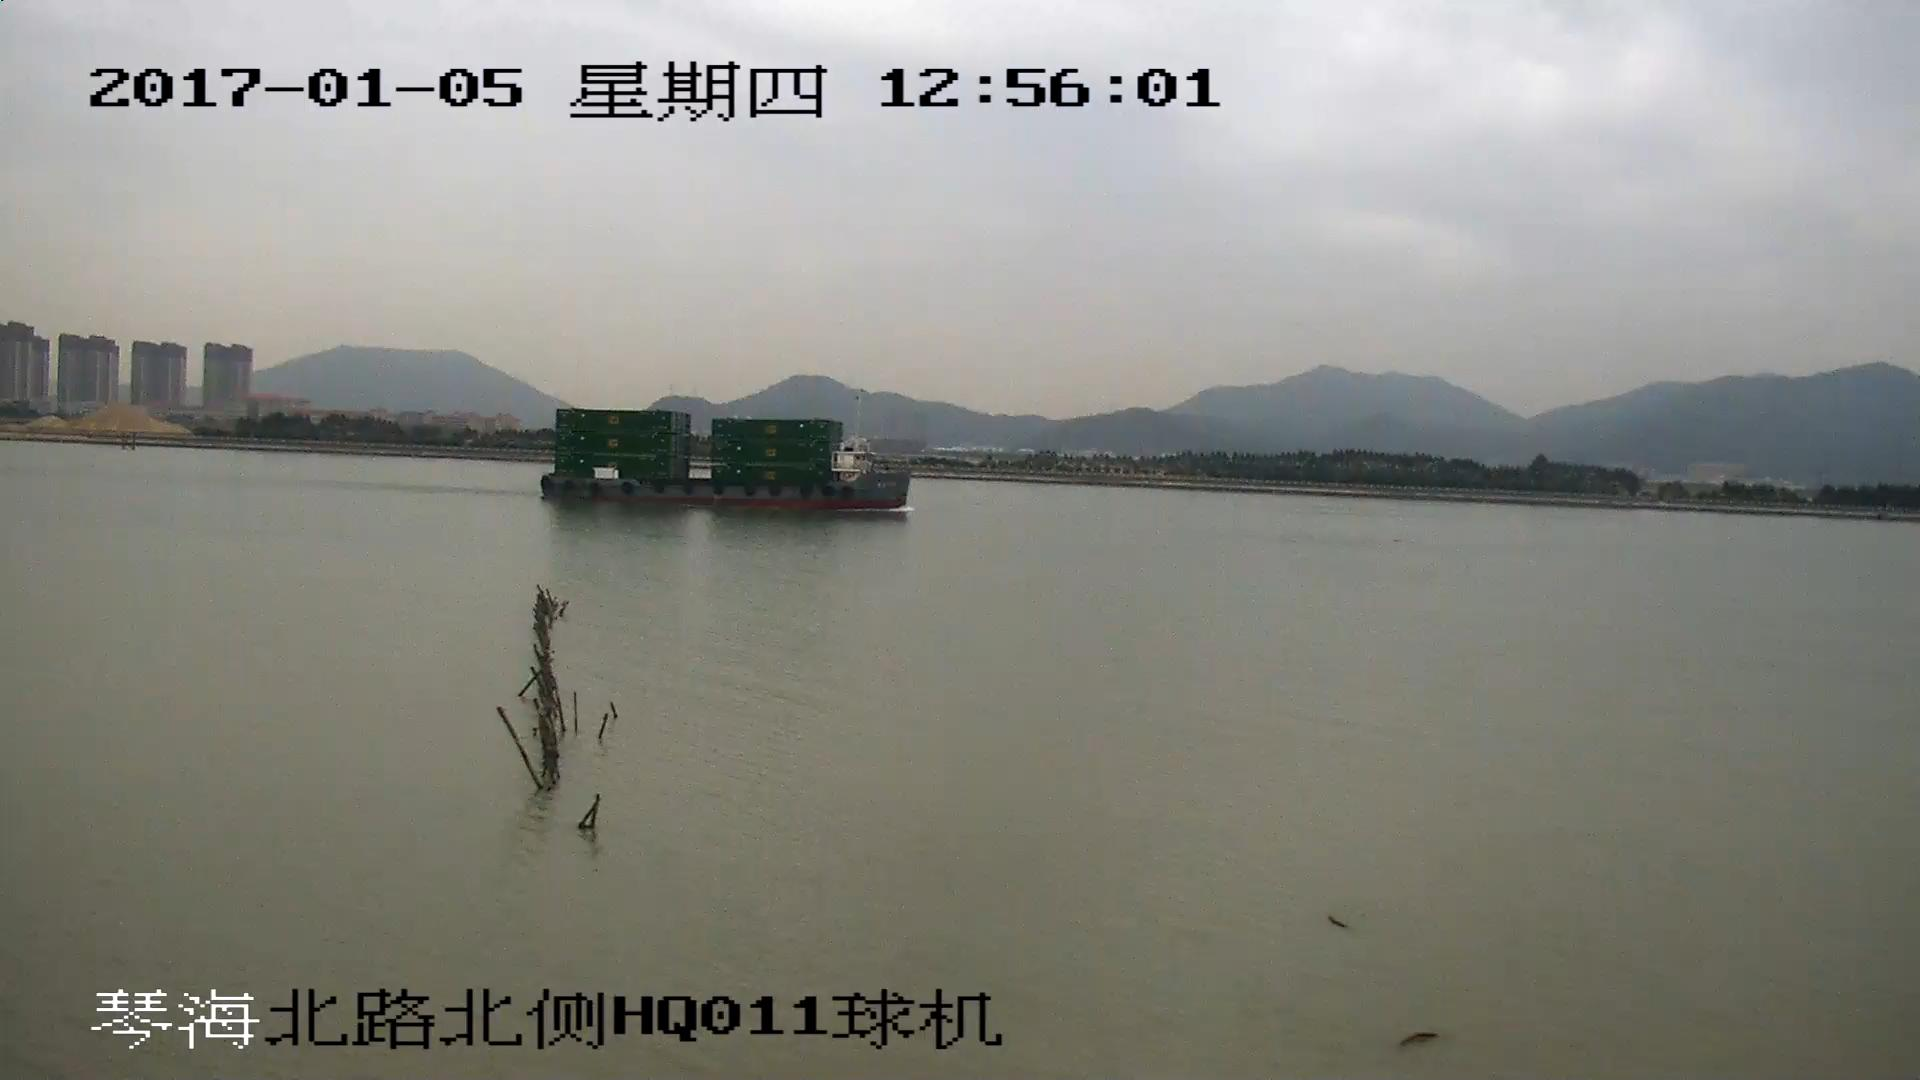container ship: (543, 410, 906, 516)
